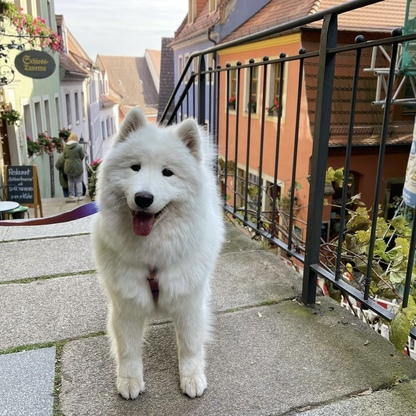samoyed: (84, 99, 231, 404)
